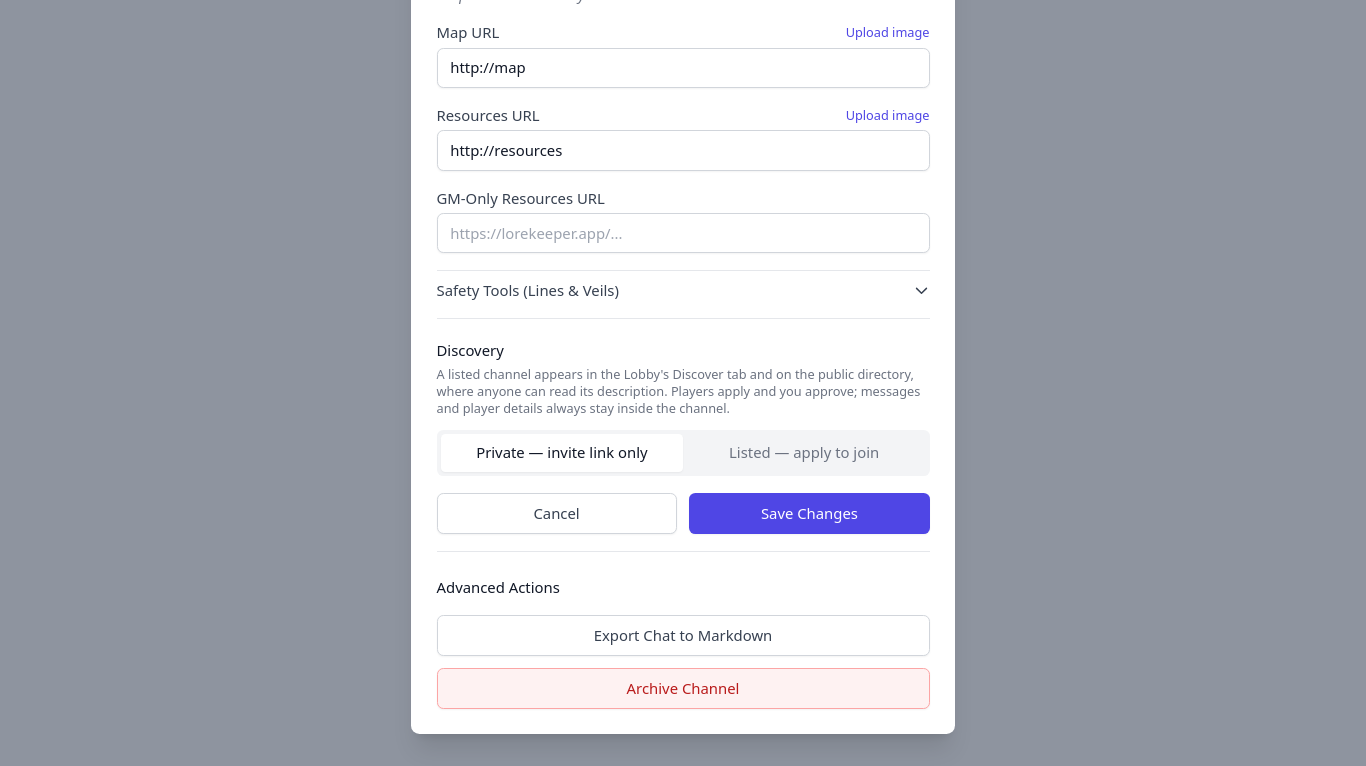
ChannelSettings › does not offer the public link until the listing is saved (#755)
This screenshot has width=1366, height=766.
(page scrolled)
Click the button "Listed — apply to join".
click(804, 453)  # box [683,434,925,472]
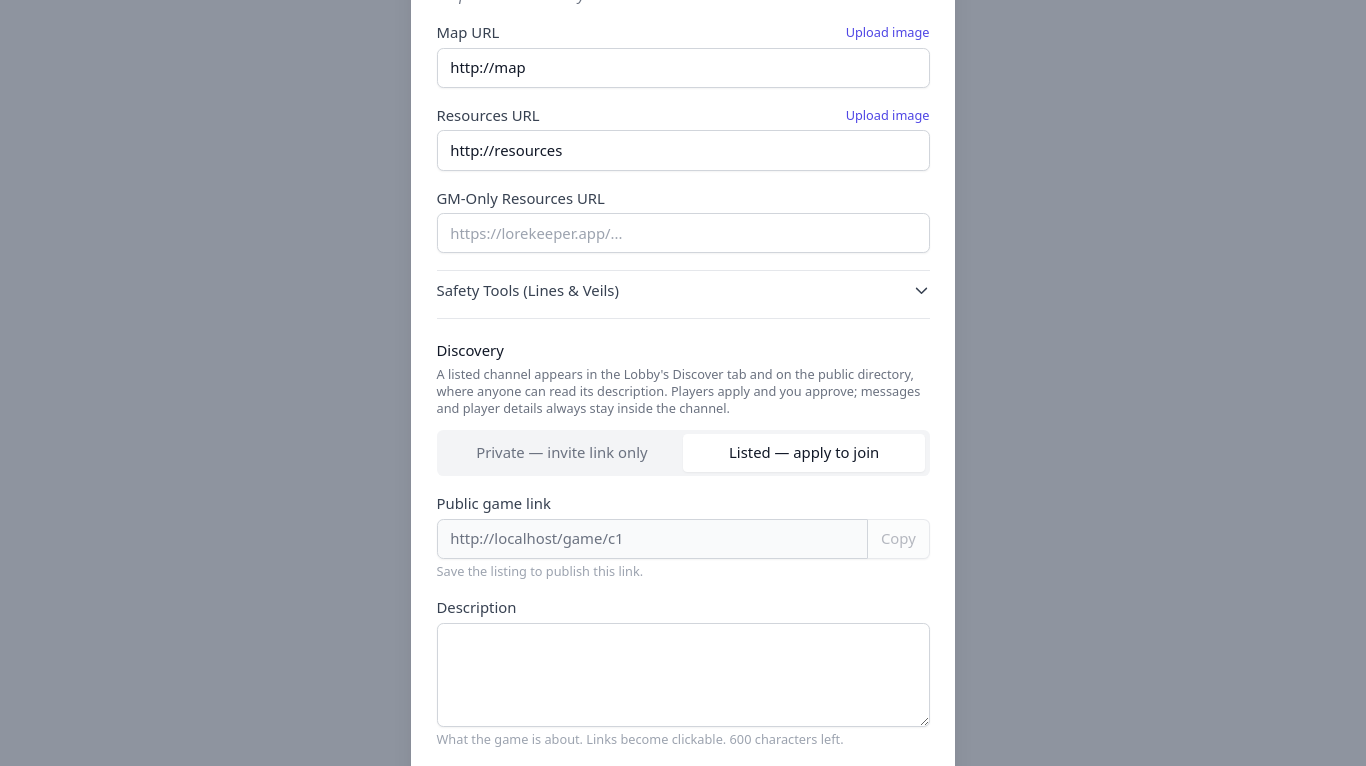
Now the field showing "http://localhost/game/c1" is shown, box [436,519,868,559]
Now the button "Copy" is disabled, box [868,519,930,559]
Now the text "Save the listing to publish this link." is shown, box [436,562,643,580]
